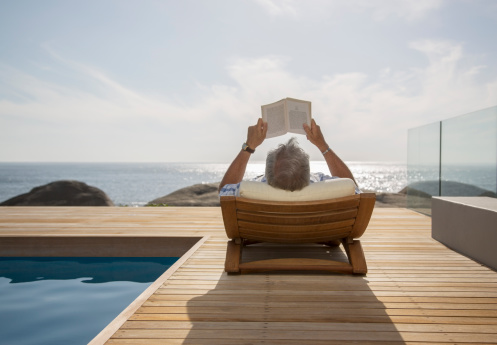deitado: (223, 114, 358, 197)
